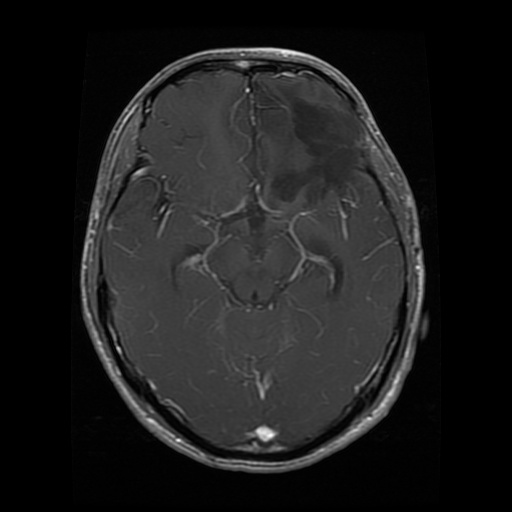glioma: (272, 95, 364, 205)
